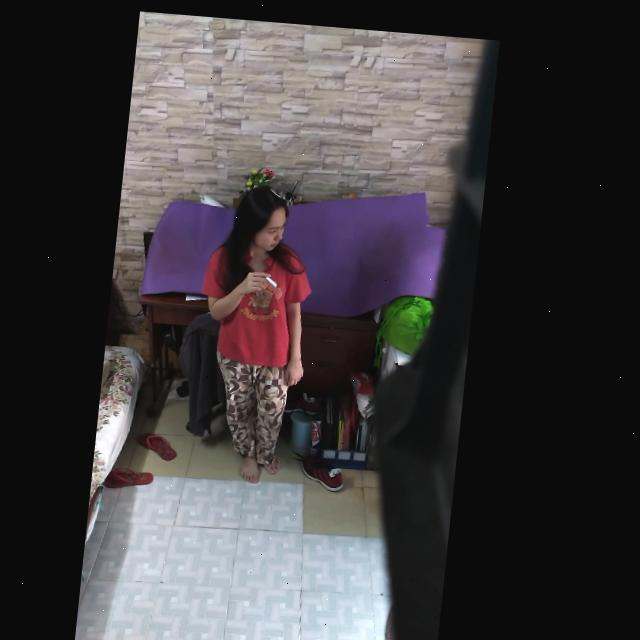cigarette: (271, 272, 283, 282)
